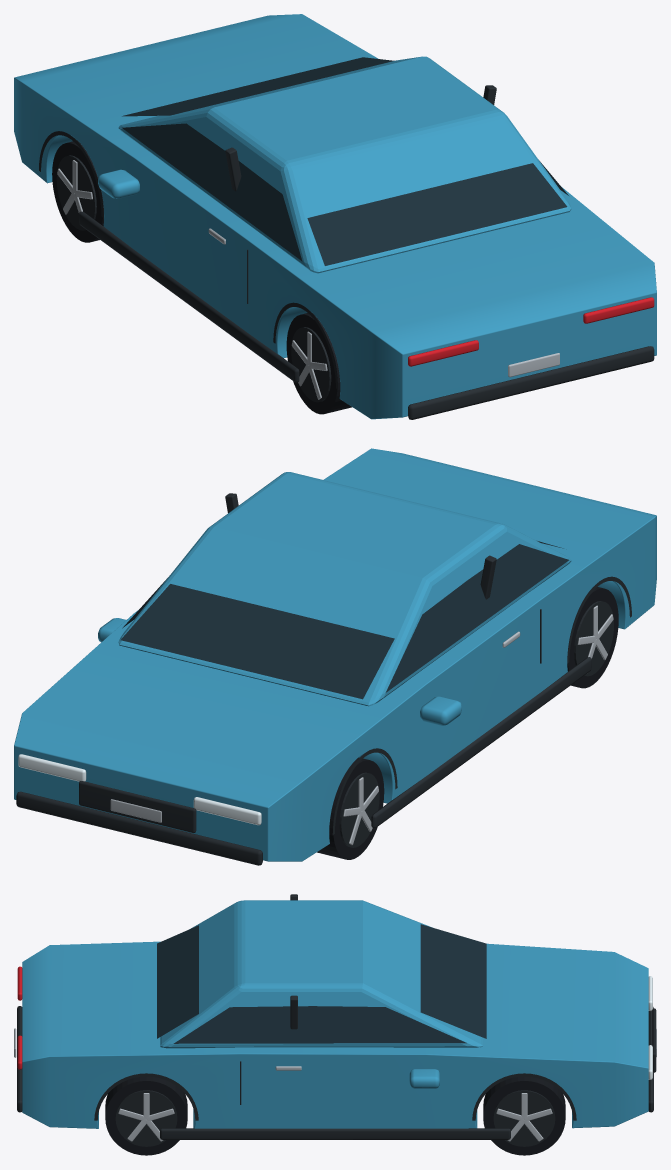
The model's file is coastal_gt.glb.
3 renders of one model, top to bottom at view 1: azimuth 30°, elevation 25°; view 2: azimuth 150°, elevation 25°; view 3: azimuth 270°, elevation 25°, orthographic. The views are drawn at different scales.
Visible parts, largest first — view 1: sculpted-body, cabin-paint, rear-glass, side-window, lower bumper.001, side skirt, windscreen, tire.002, rim.004, rim, tire, mirror (+3 smaller); view 2: sculpted-body, cabin-paint, windscreen, side-window, lower bumper, side skirt, grille, tire, rim, rim.004, tire.002, head lamp (+3 smaller); view 3: sculpted-body, cabin-paint, side-window.001, windscreen, side skirt.001, rear-glass, tire.003, tire.001, rim.007, rim.003, mirror.001, wheel arch trim.002 (+2 smaller).
Boxes of the visible parts, <box> form: sculpted-body: <box>14,14,656,419</box>; cabin-paint: <box>118,56,571,273</box>; rear-glass: <box>307,163,567,265</box>; side-window: <box>122,123,302,261</box>; lower bumper.001: <box>408,346,654,419</box>; side skirt: <box>79,211,299,382</box>; windscreen: <box>122,57,394,116</box>; tire.002: <box>286,312,351,414</box>; rim.004: <box>291,327,331,402</box>; rim: <box>56,155,96,230</box>; tire: <box>52,140,103,242</box>; mirror: <box>98,169,139,198</box>; sculpted-body: <box>14,448,656,861</box>; cabin-paint: <box>118,472,571,706</box>; windscreen: <box>120,584,394,699</box>; side-window: <box>385,544,568,692</box>; lower bumper: <box>16,791,262,865</box>; side skirt: <box>371,657,591,828</box>; grille: <box>79,781,196,832</box>; tire: <box>317,757,384,859</box>; rim: <box>339,772,379,847</box>; rim.004: <box>574,601,613,676</box>; tire.002: <box>567,587,618,688</box>; head lamp: <box>193,797,261,825</box>; sculpted-body: <box>22,941,648,1128</box>; cabin-paint: <box>160,900,482,1048</box>; side-window.001: <box>173,1006,466,1043</box>; windscreen: <box>420,924,486,1038</box>; side skirt.001: <box>160,1128,510,1139</box>; rear-glass: <box>157,925,198,1038</box>; tire.003: <box>105,1076,187,1155</box>; tire.001: <box>483,1076,565,1155</box>; rim.007: <box>115,1090,177,1146</box>; rim.003: <box>493,1090,555,1146</box>; mirror.001: <box>409,1069,439,1088</box>; wheel arch trim.002: <box>94,1073,198,1120</box>.
Size of the model in its own units: 2.37 by 1.27 by 4.68.
